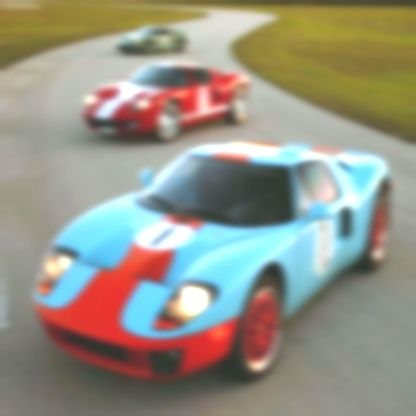Vehicle: (34, 143, 392, 383)
